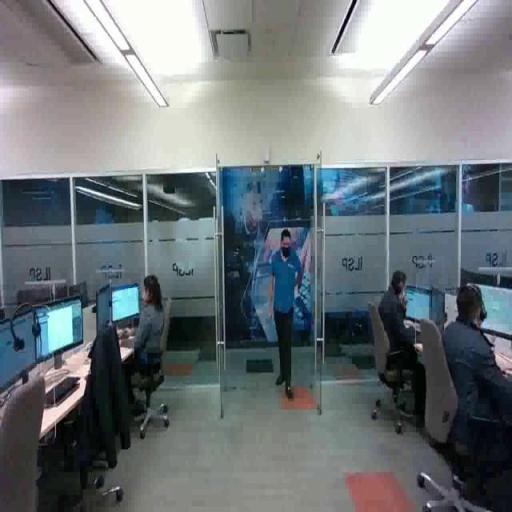person: (430, 281, 512, 501), (107, 272, 181, 407), (373, 264, 434, 411), (269, 229, 302, 401)
